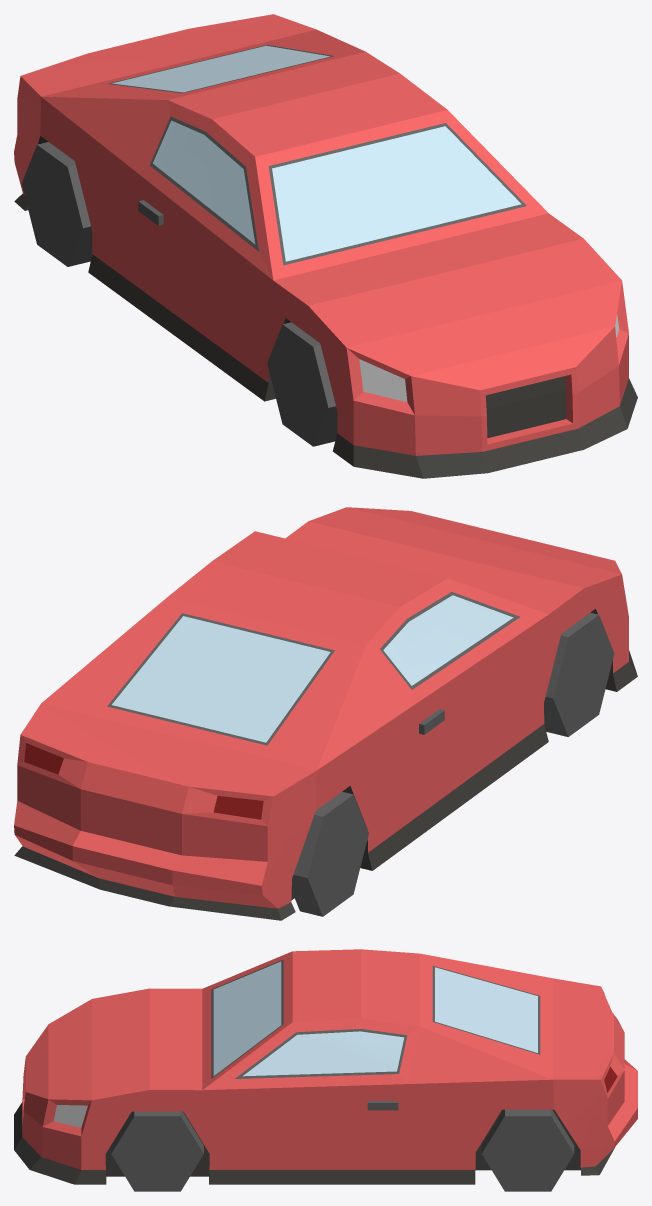
Rendered from normal3.glb.
The picture shows the model from 3 angles, top to bottom: view 1: azimuth 30°, elevation 25°; view 2: azimuth 150°, elevation 25°; view 3: azimuth 270°, elevation 25°; orthographic projection. The views are drawn at different scales.
Visible parts, largest first — view 1: Car_3_1; view 2: Car_3_1; view 3: Car_3_1.
Boxes of the visible parts, x1,y1,x2,y2 form: Car_3_1: (14, 14, 637, 478); Car_3_1: (14, 507, 637, 920); Car_3_1: (14, 949, 637, 1191).
Bounding box in the file's own units: 2.96 × 2.03 × 7.4.
1 material, 1 textured.
